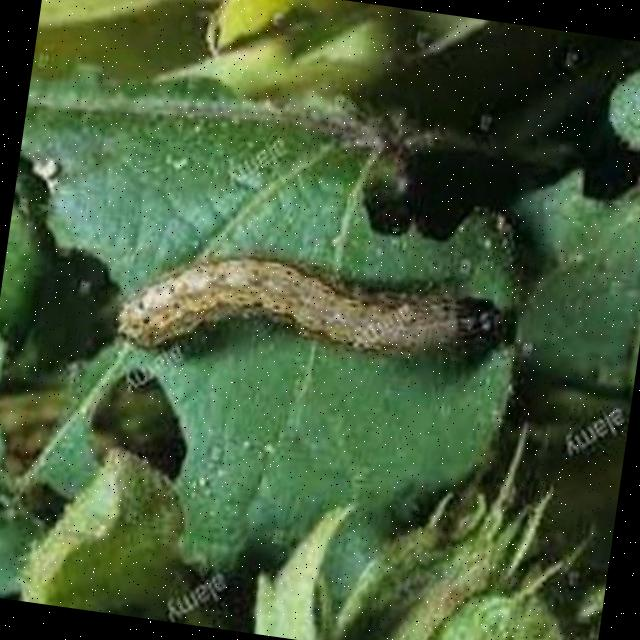worm: (111, 233, 519, 404)
